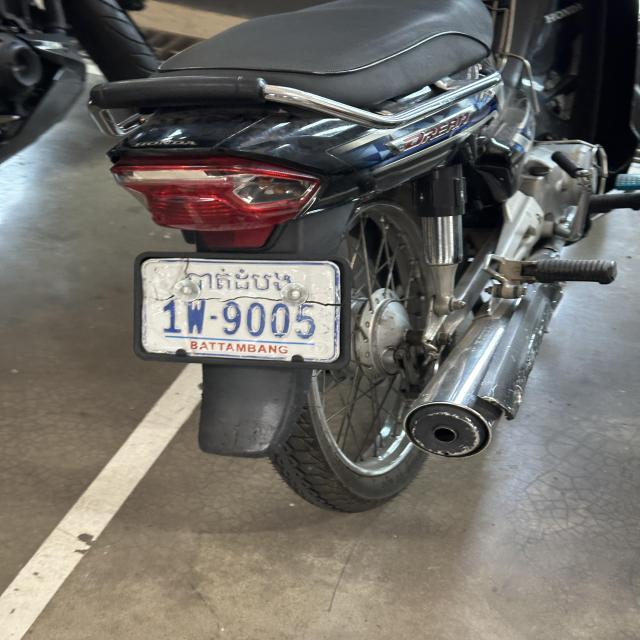Battambang: (185, 266, 296, 294)
